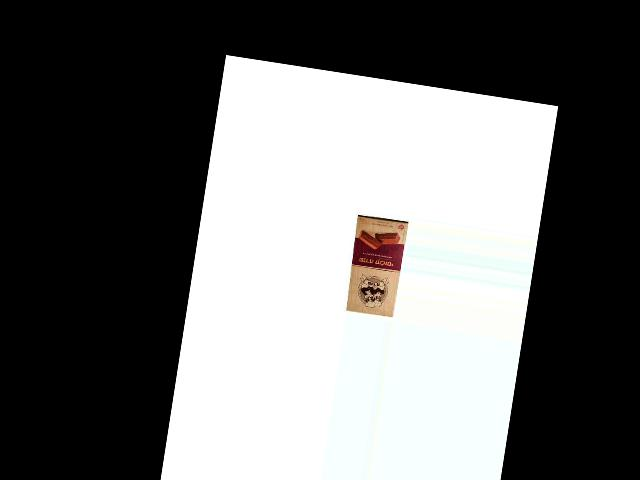chocolate: (341, 213, 406, 318)
